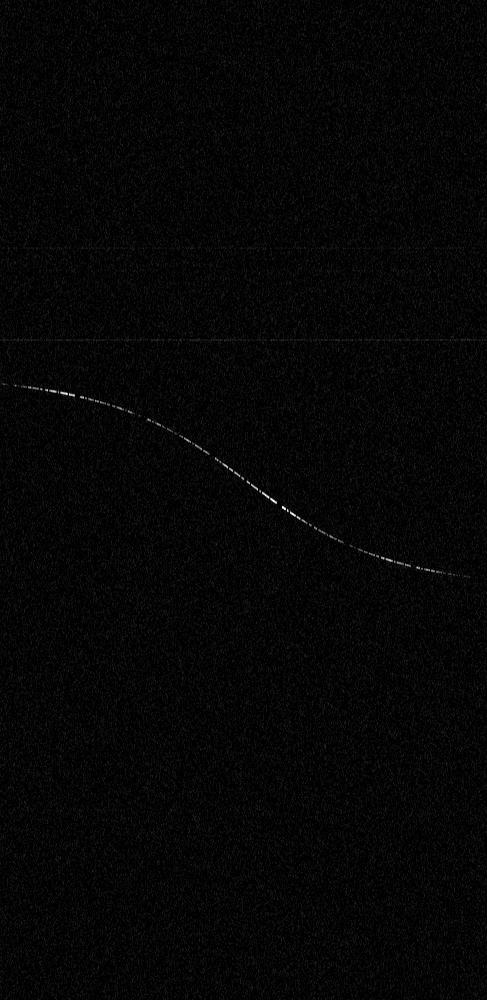signal: (0, 0, 486, 999)
